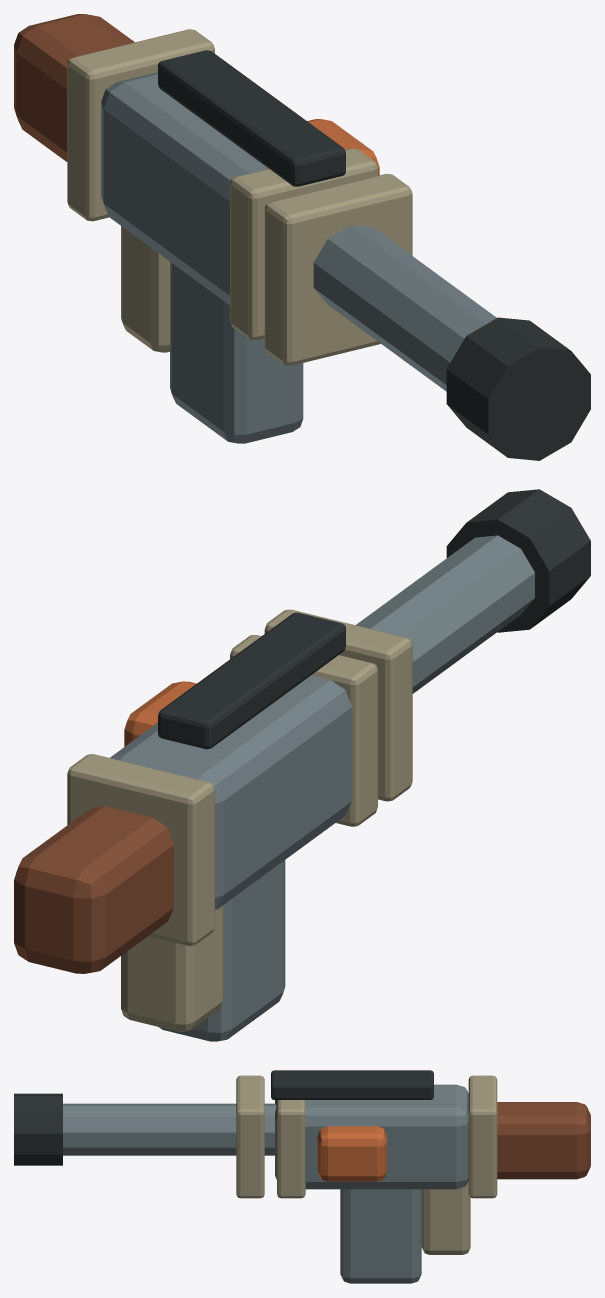
File: scrap-rifle.glb
3 renders of one model, top to bottom at view 1: azimuth 30°, elevation 25°; view 2: azimuth 150°, elevation 25°; view 3: azimuth 270°, elevation 25°, orthographic. The views are drawn at different scales.
Visible parts, largest first — view 1: ScrapRifle.003; view 2: ScrapRifle.003; view 3: ScrapRifle.003.
Boxes of the visible parts, x1,y1,x2,y2 form: ScrapRifle.003: (14, 14, 590, 460); ScrapRifle.003: (14, 489, 590, 1041); ScrapRifle.003: (14, 1070, 590, 1283).
Size of the model in its own units: 0.2825 by 0.5325 by 1.42.
